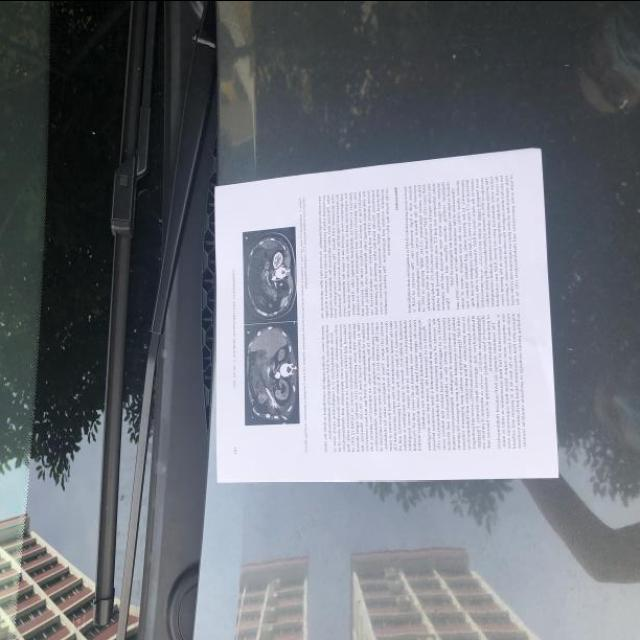kertas: (208, 147, 559, 487)
